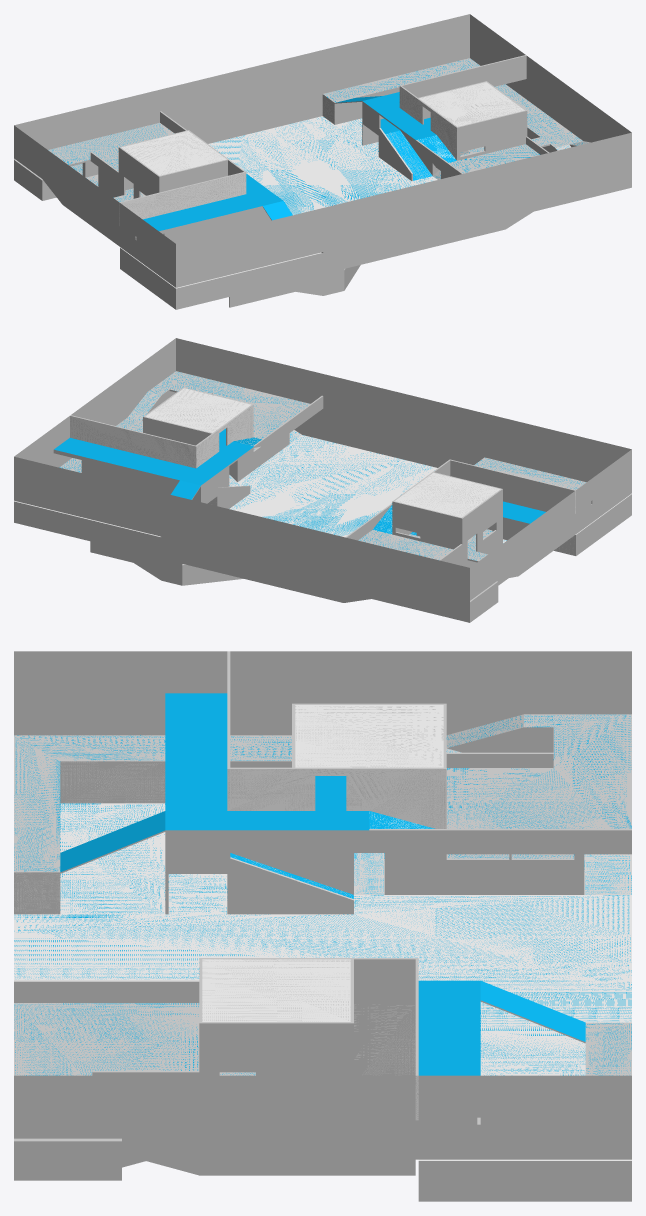
File: Arena.dae
3 views of the same model, one above another, from view 1: azimuth 30°, elevation 25°; view 2: azimuth 150°, elevation 25°; view 3: azimuth 270°, elevation 25° (orthographic). The views are drawn at different scales.
Visible parts, largest first — view 1: Group_1 (×16); view 2: Group_1 (×14); view 3: Group_1 (×15).
Part boxes in pixels (bbox=[...]): Group_1 (×16): bbox=[14, 14, 631, 309]; Group_1 (×14): bbox=[14, 338, 631, 622]; Group_1 (×15): bbox=[14, 651, 631, 1201].
Size of the model in its own units: 2559 by 1575 by 472.
